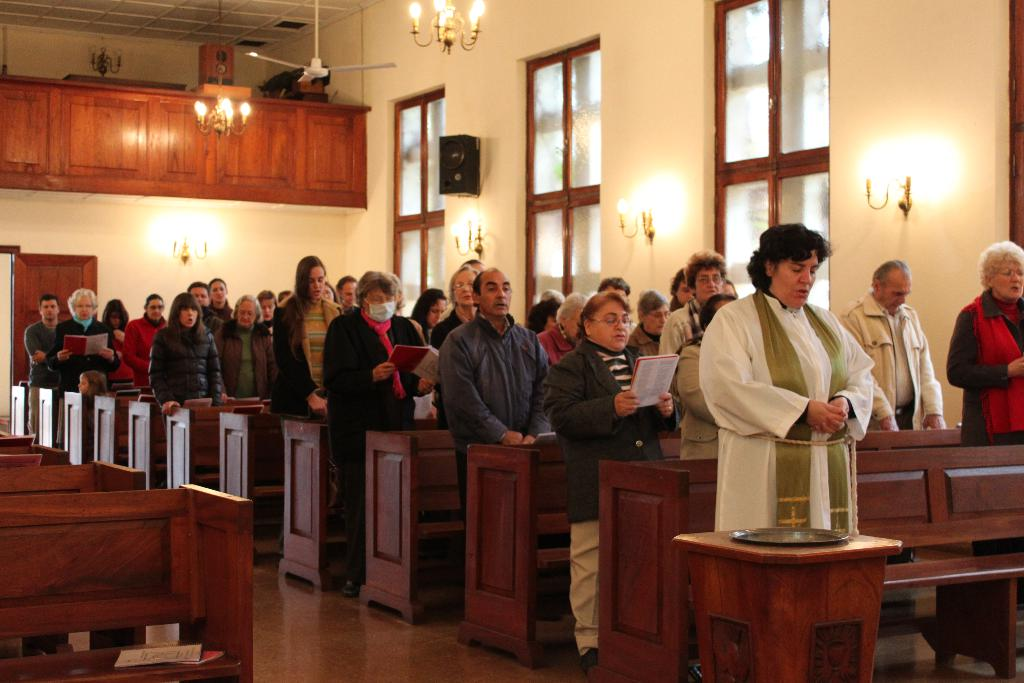Person: (23, 254, 739, 597), (541, 290, 686, 675), (838, 260, 949, 561), (946, 239, 1024, 605)
